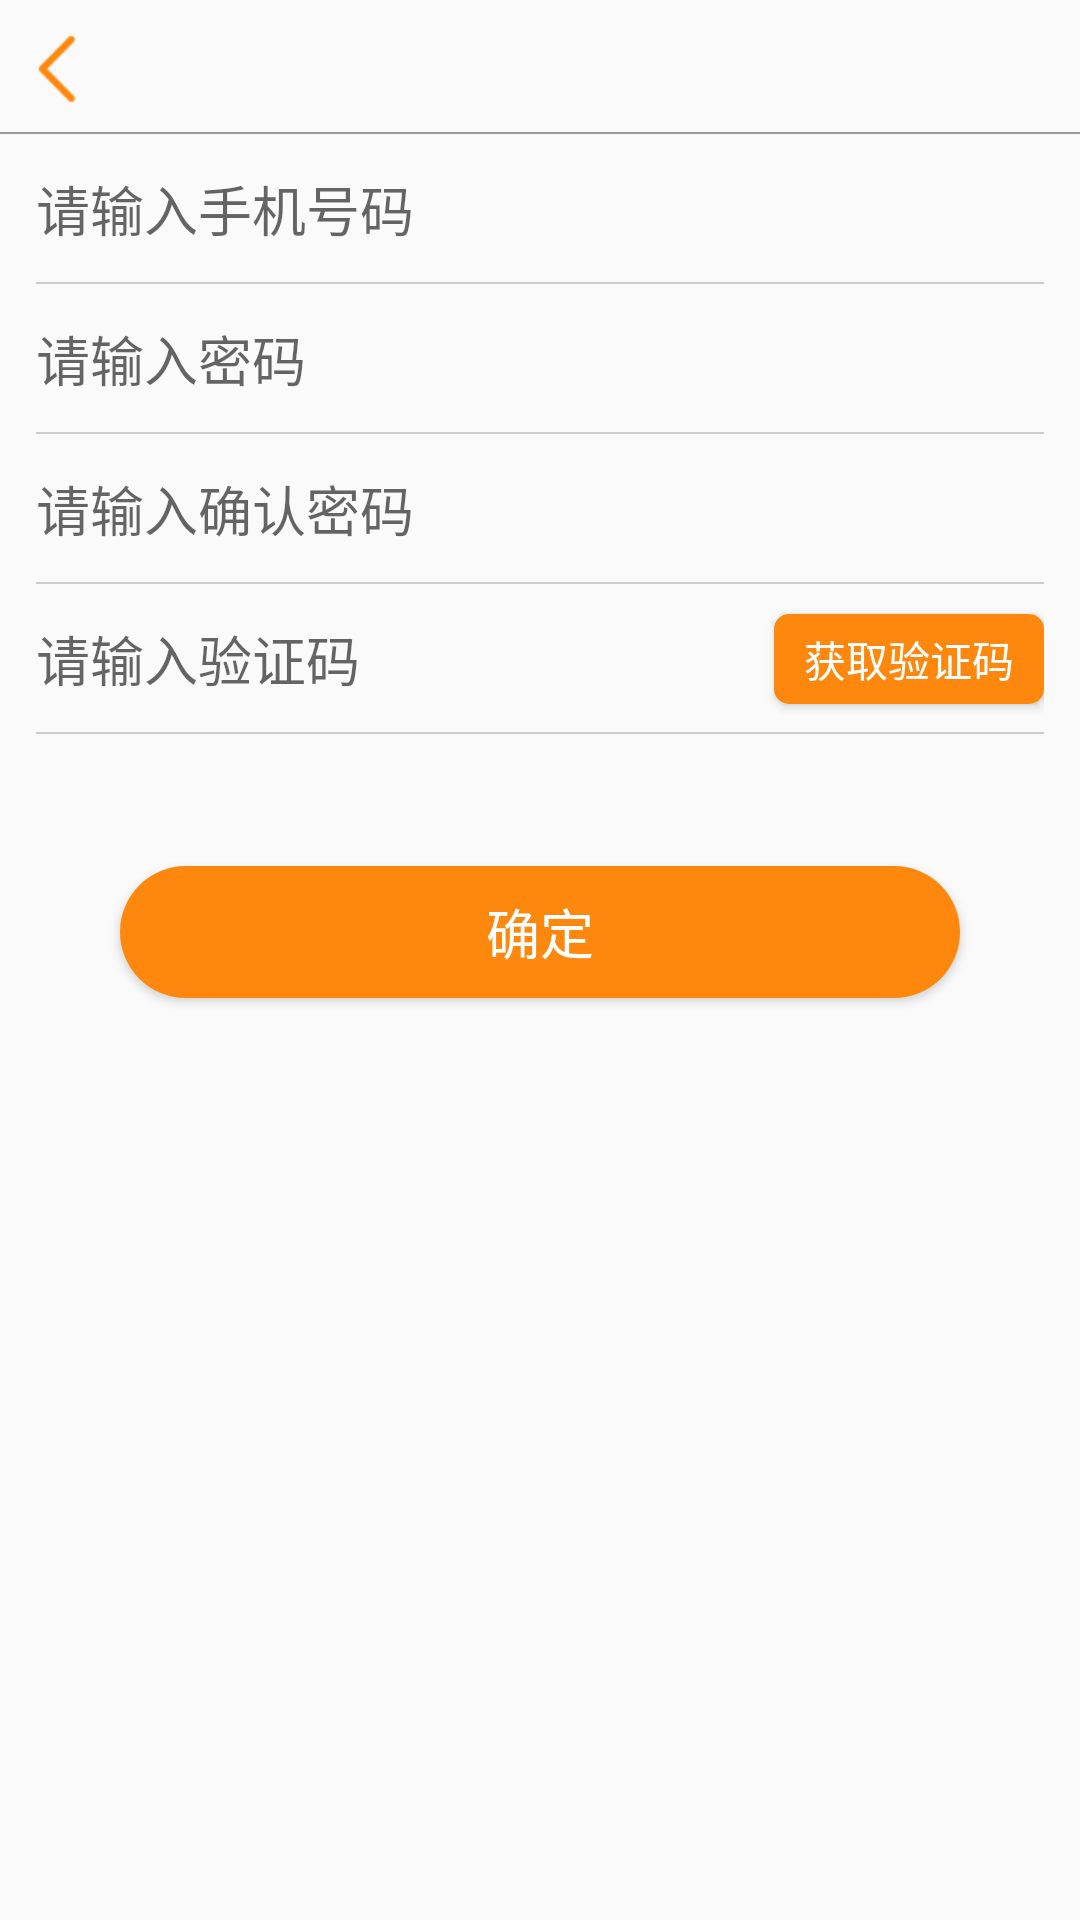

Point at icon controls on the screen. Image size 1080x1920, points as [x,y].
arrow back: [57,69]
